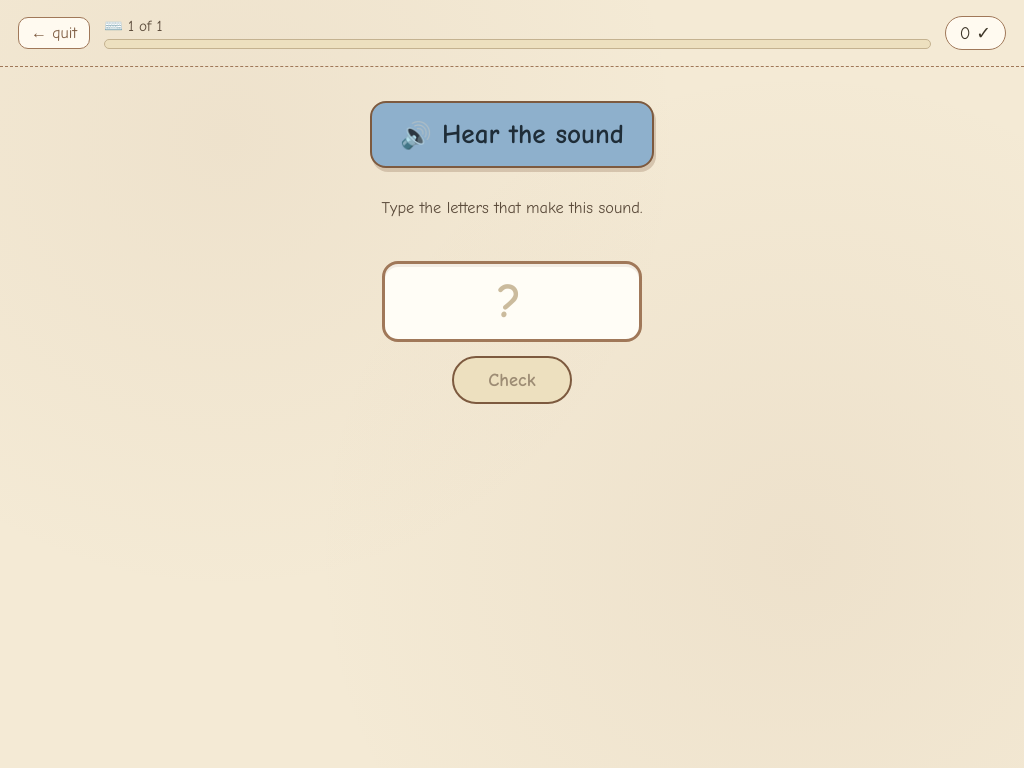
Test: PhonicsGame — type-it mode › accepts any legitimate spelling of an ambiguous sound
The image size is (1024, 768).
Type "ay" into the field named "type the letters" at (512, 302), box [382, 261, 642, 342]
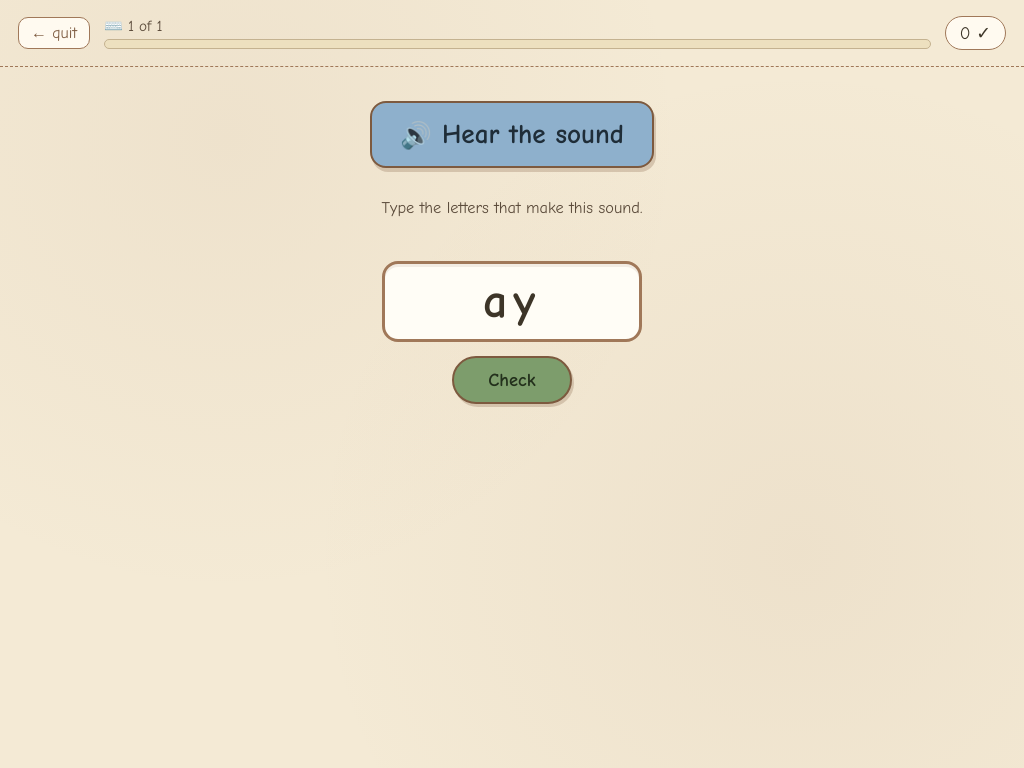
Click the button "Check" at (512, 380), box [452, 356, 572, 404]
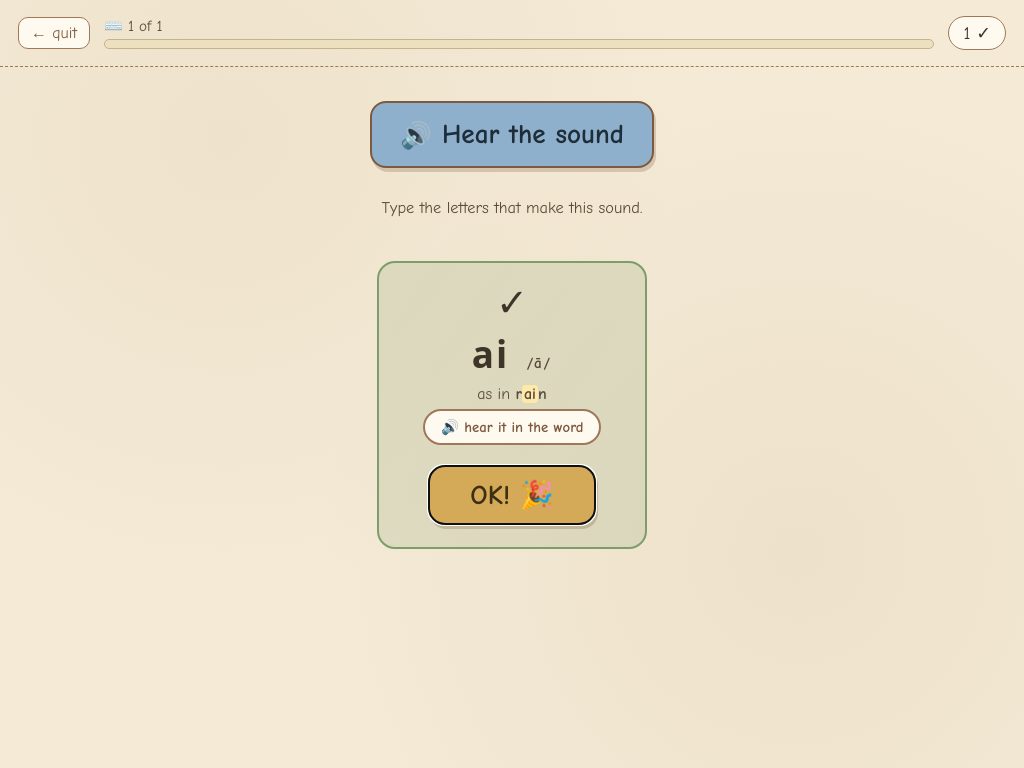
Expected: the button "OK! 🎉" is shown, [428, 465, 596, 525]
